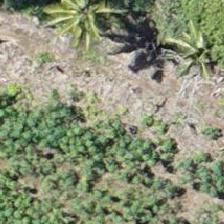coconut_tree: (138, 4, 223, 94), (49, 0, 139, 59)
